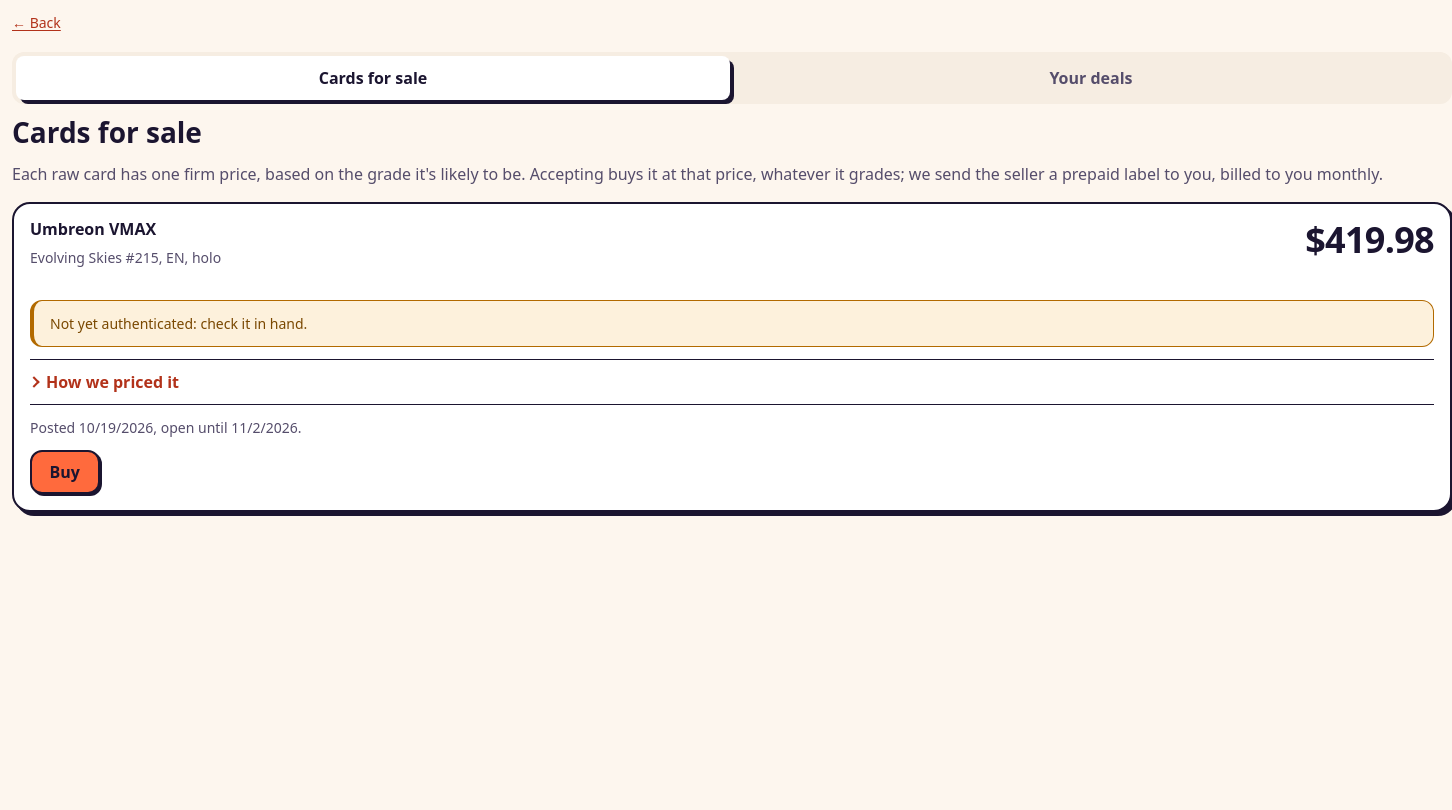
MarketPage › says when the label is still to come
Click the button "Buy" at (65, 472), box [30,450,100,494]
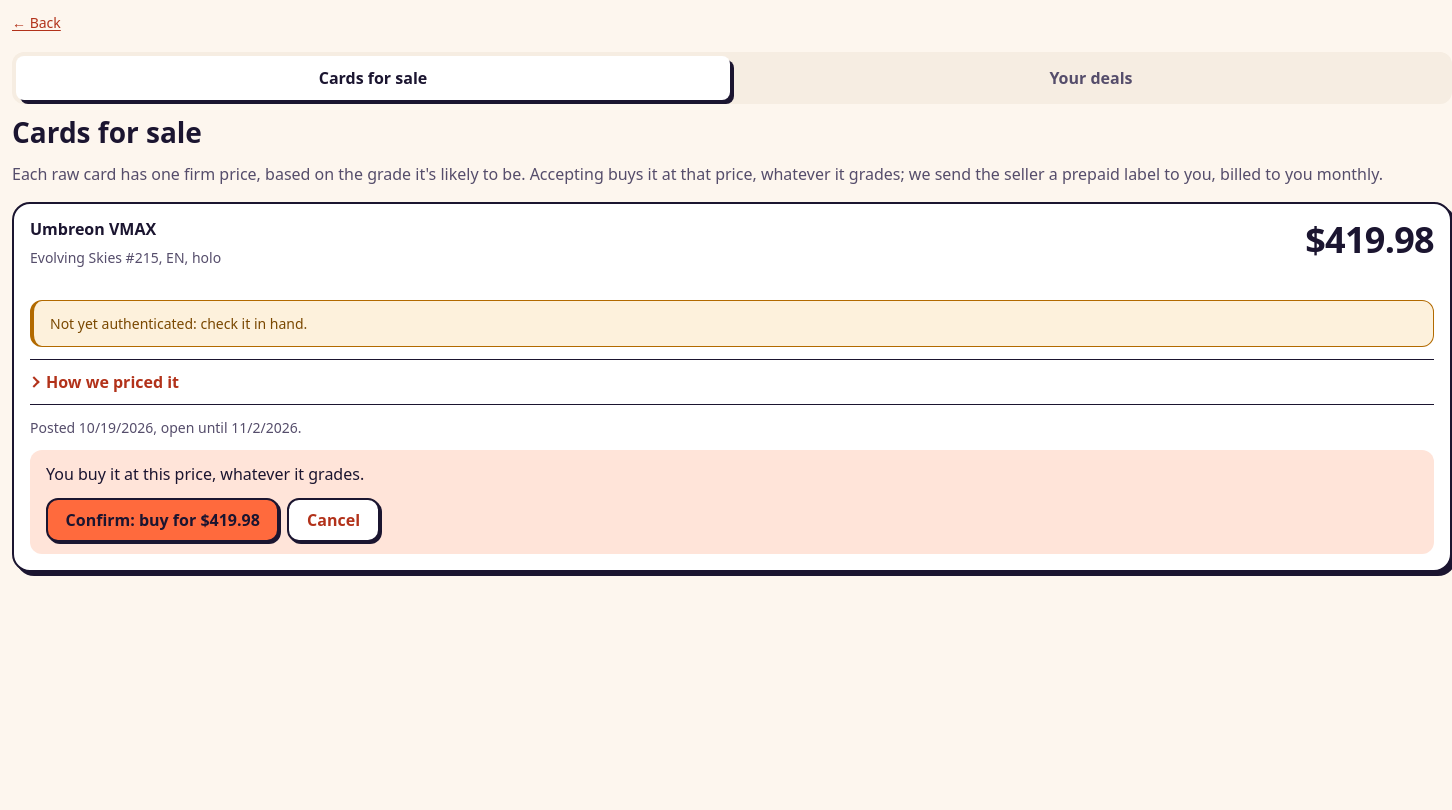
Click the button "Confirm: buy for $419.98" at (163, 520), box [46,498,280,542]
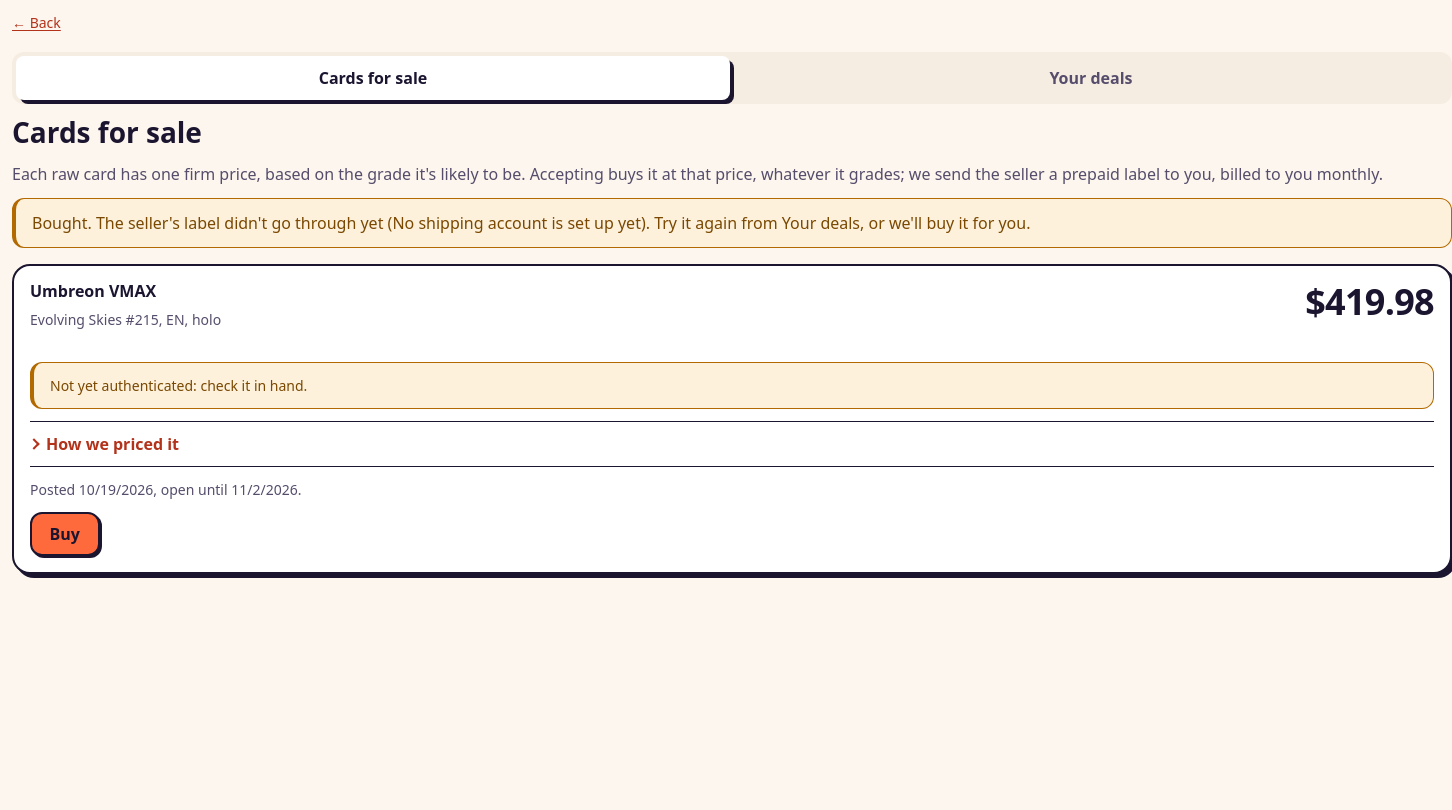
Now the message shows "Bought. The seller's label didn't go through yet (No shipping account is set up yet). Try it again from Your deals, or we'll buy it for you.", box [32,212,1030,234]
